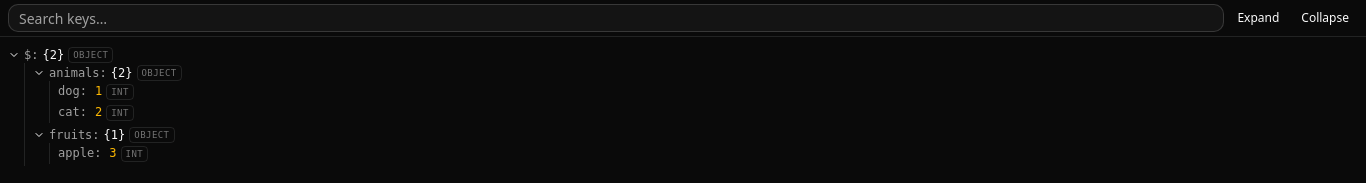
Test: JsonTree › search filter hides non-matching subtrees
Step 1. Type "cat" into the field with placeholder "Search keys…" → (616, 18), box [8,4,1224,32]
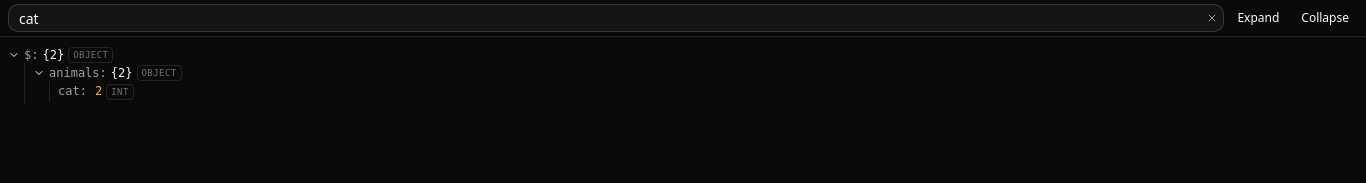
Check: the text "cat:" is shown, box [58,83,87,99]
Check: the text "apple:" is gone
Check: the text "dog:" is gone
